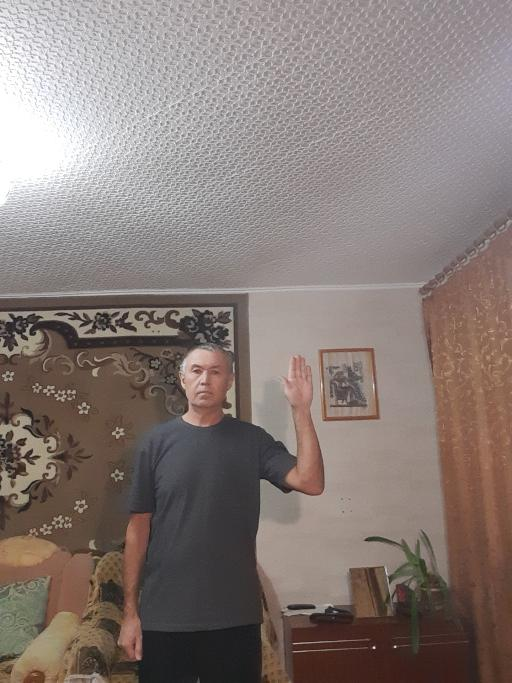no_gesture: (114, 614, 144, 664)
stop: (277, 352, 314, 408)
